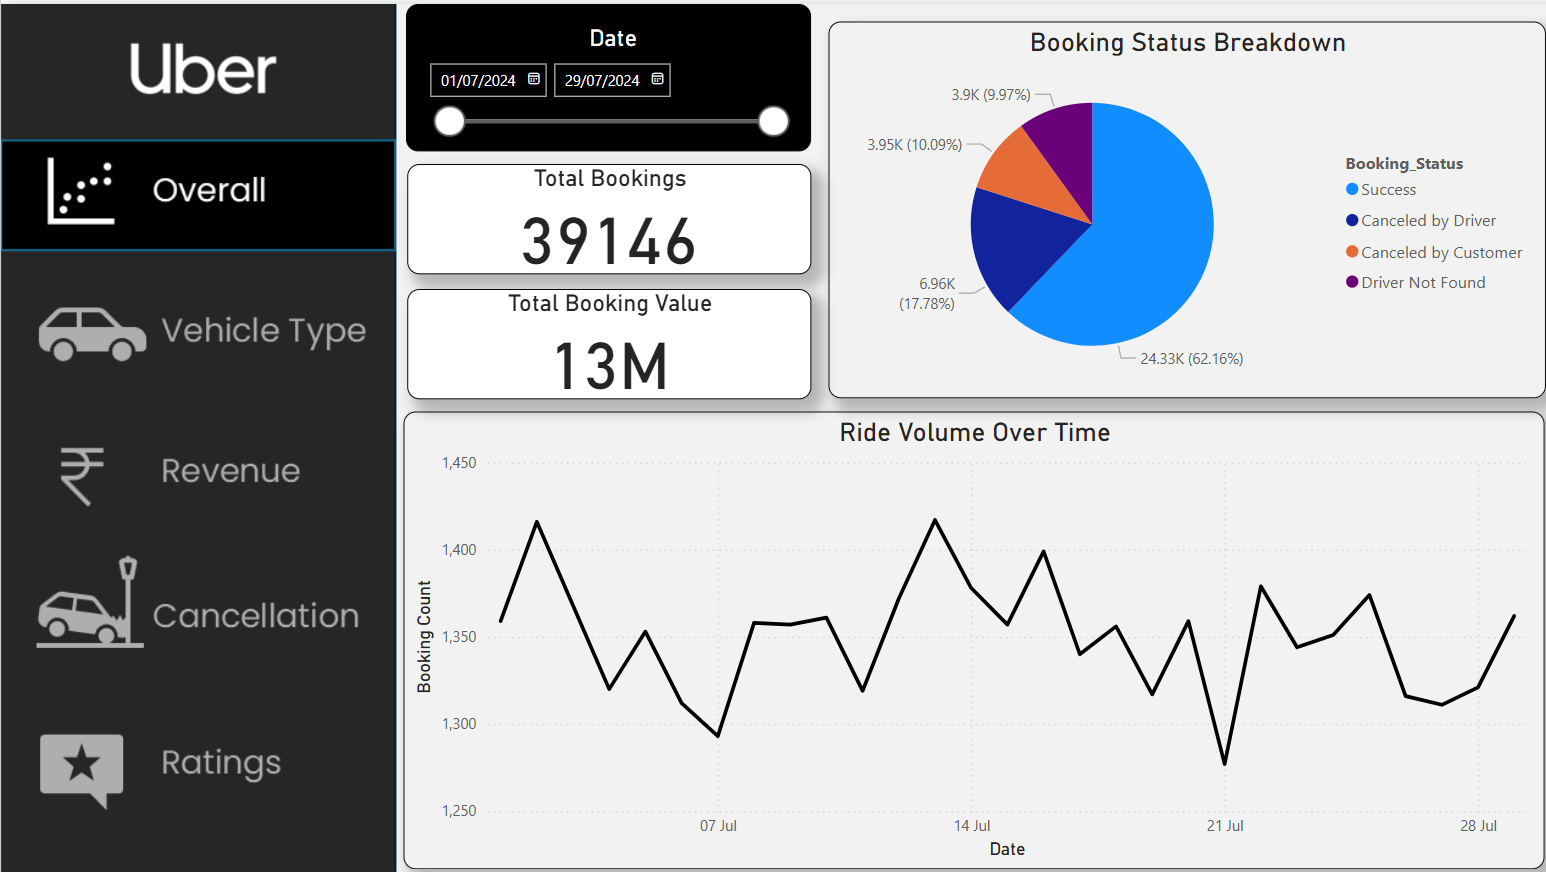

This screenshot's page, from the dashboard's own definition file:
{"tool":"powerbi","page":{"name":"Overall","canvas":[1280,720],"ordinal":0},"visuals":[{"type":"actionButton","box":[0,221.4,324.3,93.5],"z":0},{"type":"lineChart","title":"Ride Volume Over Time","fields":{"Y":["CountNonNull(July.Booking_ID)"],"Category":["July.Date"]},"box":[330,334.4,935.6,375.6],"z":1000},{"type":"actionButton","box":[0,334.4,324.4,93.3],"z":2000},{"type":"actionButton","box":[0,446.7,324.4,93.3],"z":3000},{"type":"actionButton","box":[0,577.8,324.4,93.3],"z":4000},{"type":"pieChart","title":"Booking Status Breakdown","fields":{"Category":["July.Booking_Status"],"Y":["CountNonNull(July.Booking_Status)"]},"box":[677.8,14.4,587.8,308.9],"z":5000},{"type":"slicer","title":"Date","fields":{"Values":["July.Date"]},"box":[332.2,0,332.2,121.1],"z":6000},{"type":"card","title":"Total Bookings","fields":{"Values":["Count(July.Booking_ID)"]},"box":[333.3,131.1,331.1,90],"z":7000},{"type":"card","title":"Total Booking Value","fields":{"Values":["Sum(July.Booking_Value)"]},"box":[333.3,233.3,331.1,90],"z":8000}]}

Visuals, with their boxes in screenshot pixels (x1, y1, x2, y2), scaled from the page's 1280x720 canvas onto the 1546x872 screenshot:
actionButton: box(0, 268, 392, 381)
"Ride Volume Over Time" lineChart: box(399, 405, 1529, 860)
actionButton: box(0, 405, 392, 518)
actionButton: box(0, 541, 392, 654)
actionButton: box(0, 700, 392, 813)
"Booking Status Breakdown" pieChart: box(819, 17, 1529, 392)
"Date" slicer: box(401, 0, 802, 147)
"Total Bookings" card: box(403, 159, 802, 268)
"Total Booking Value" card: box(403, 283, 802, 392)
